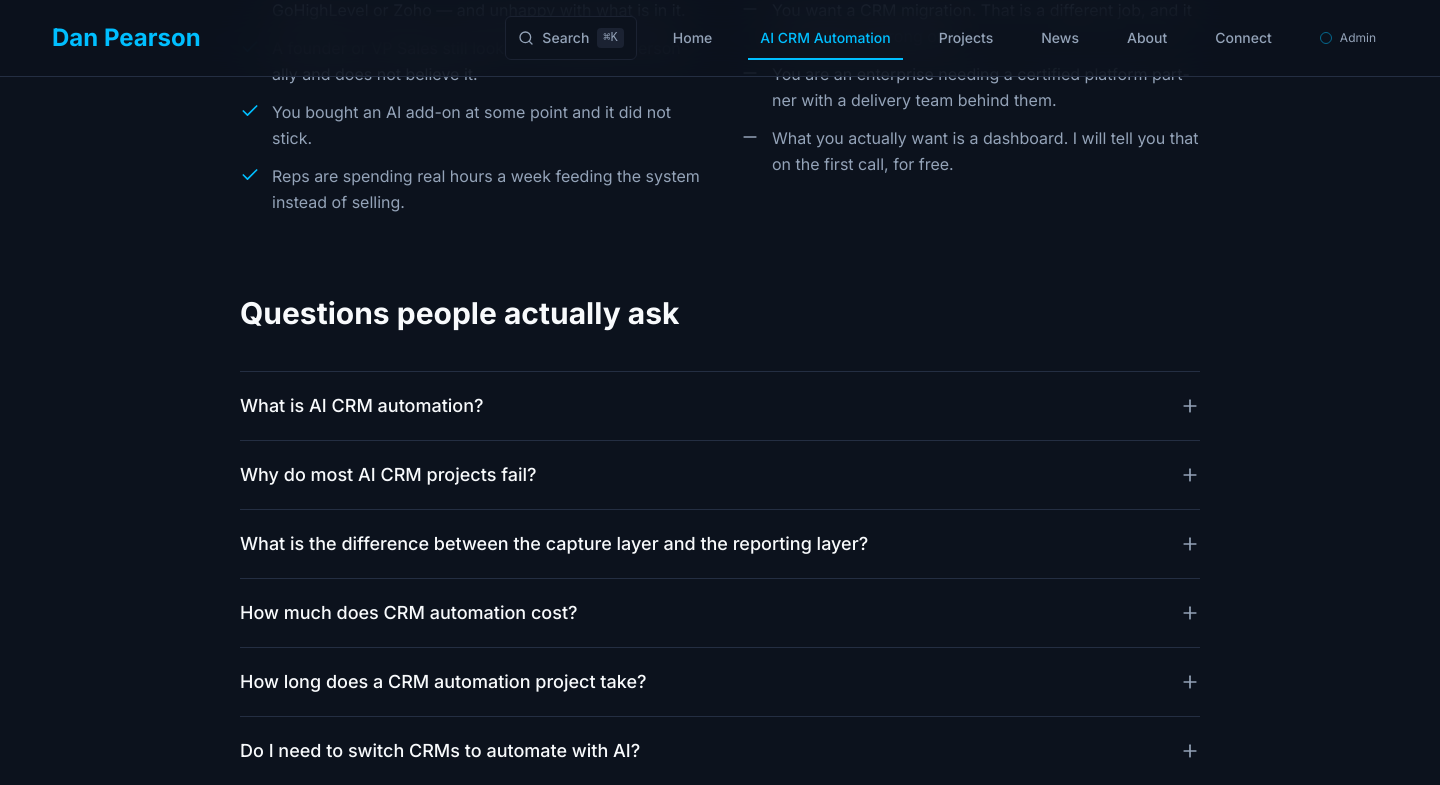
Test: AI CRM Automation page › keeps FAQ answers collapsed until their question is activated
(page scrolled)
Step 1. Click the button "What is AI CRM automation?" → (362, 405), box x1=240 y1=372 x2=1200 y2=440
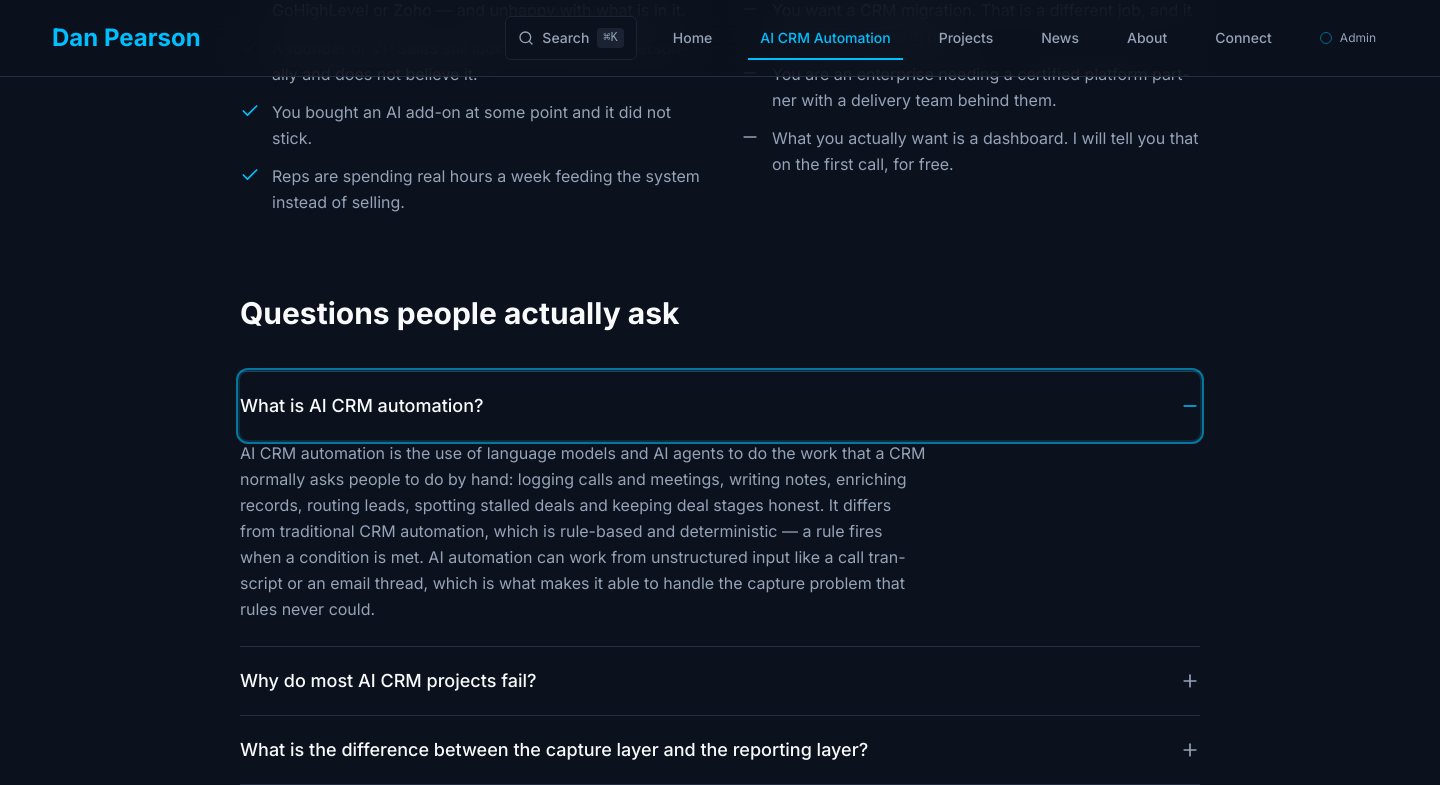
Now the text "AI CRM automation is the use of language models and AI agents to do the work that a CRM normally asks people to do by ha" is shown, box x1=240 y1=443 x2=926 y2=619
Step 2. Click the button "What is AI CRM automation?" → (362, 405), box x1=240 y1=372 x2=1200 y2=440
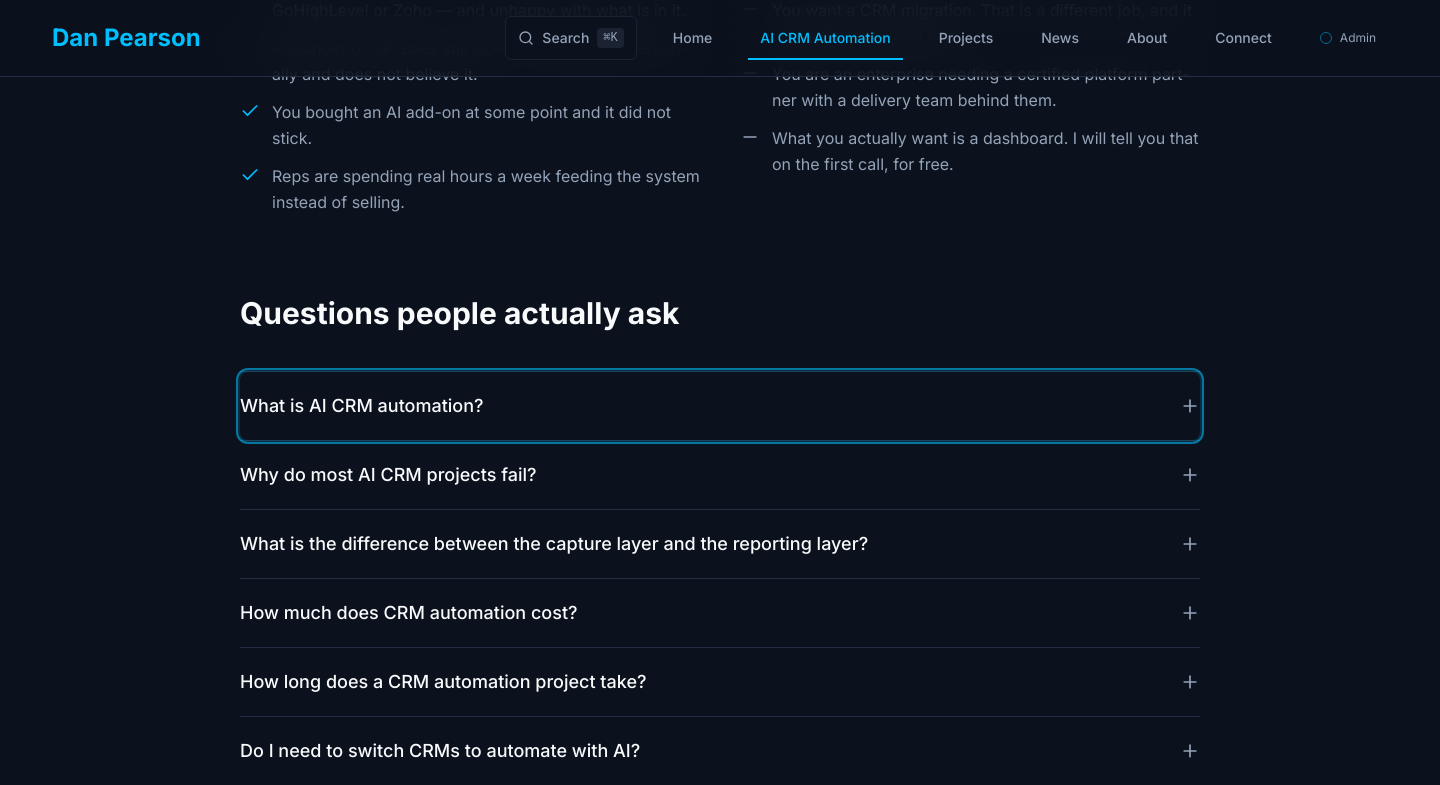
Now the text "AI CRM automation is the use of language models and AI agents to do the work that a CRM normally asks people to do by ha" is gone
